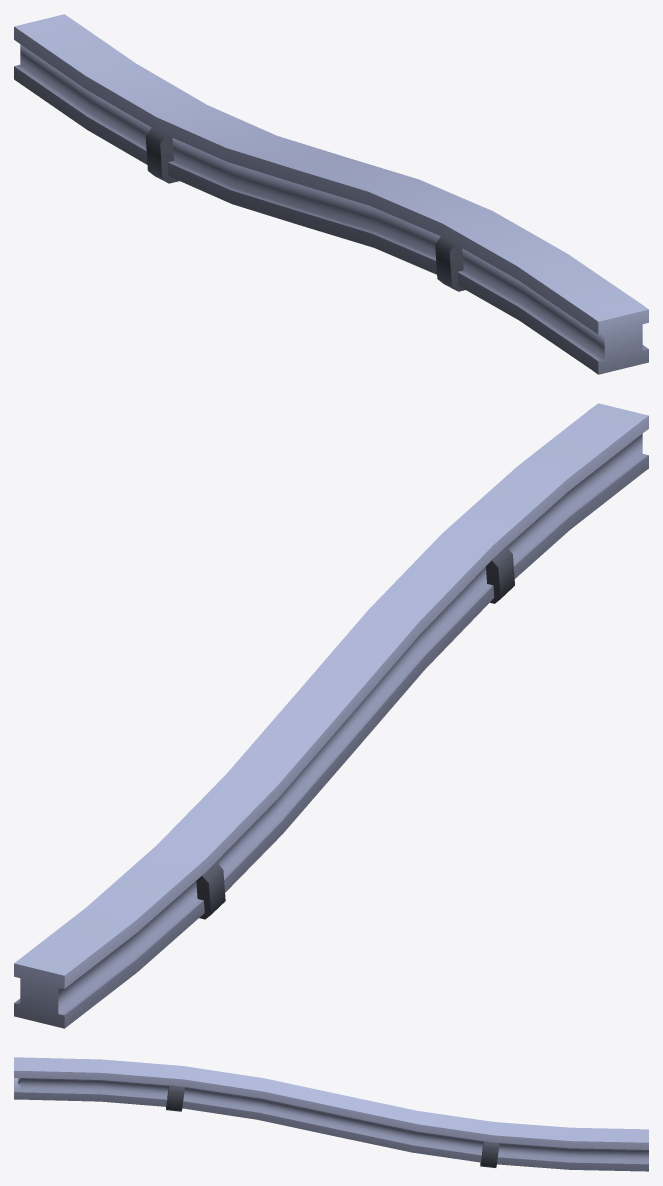
File: coaster-monorail-straight-hill-complete-half.glb
3 renders of one model, top to bottom at view 1: azimuth 30°, elevation 25°; view 2: azimuth 150°, elevation 25°; view 3: azimuth 270°, elevation 25°, orthographic. The views are drawn at different scales.
Visible parts, largest first — view 1: coaster-monorail-straight-hill-complete-half; view 2: coaster-monorail-straight-hill-complete-half; view 3: coaster-monorail-straight-hill-complete-half.
Boxes of the visible parts, bbox=[...] form: coaster-monorail-straight-hill-complete-half: bbox=[14, 14, 648, 374]; coaster-monorail-straight-hill-complete-half: bbox=[14, 403, 648, 1028]; coaster-monorail-straight-hill-complete-half: bbox=[14, 1057, 648, 1171].
Bounding box in the file's own units: 0.75 × 2.1 × 12.
1 material, 1 textured.
